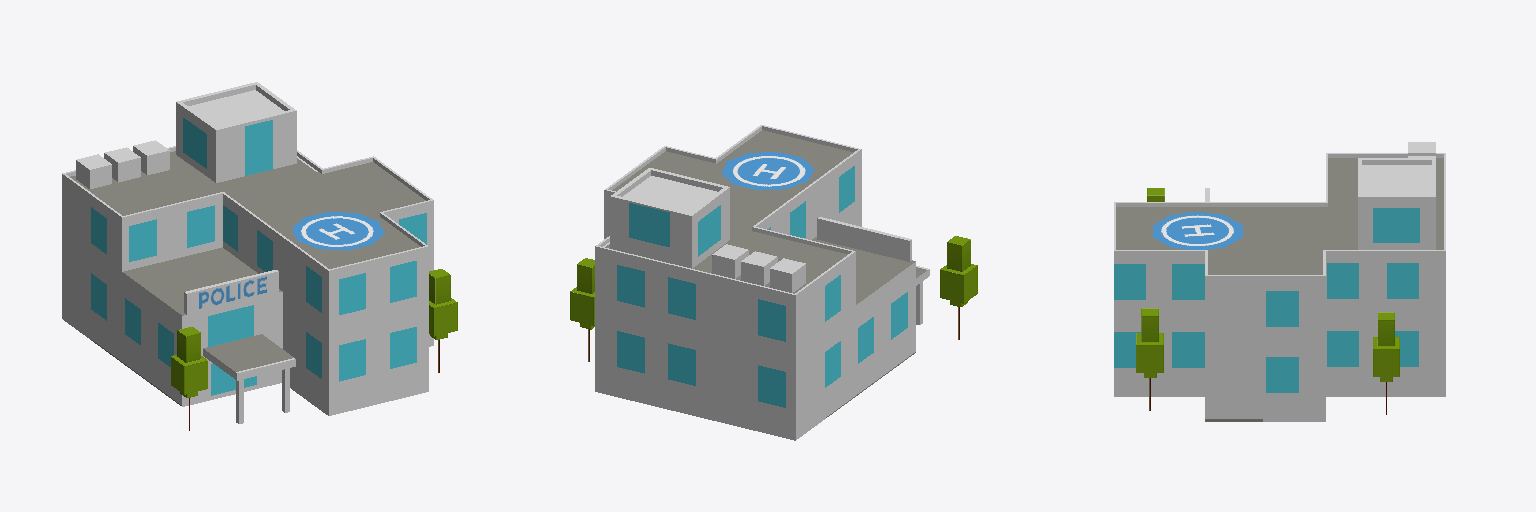
The picture shows the model from 3 angles: view 1: azimuth 30°, elevation 25°; view 2: azimuth 150°, elevation 25°; view 3: azimuth 270°, elevation 25°; orthographic projection.
Visible parts, largest first — view 1: service_police_Mesh.9301, Tree_2_3_61.427_Mesh.9303, Tree_2_3_61.426_Mesh.9302; view 2: service_police_Mesh.9301, Tree_2_3_61.427_Mesh.9303, Tree_2_3_61.428_Mesh.9304; view 3: service_police_Mesh.9301, Tree_2_3_61.426_Mesh.9302, Tree_2_3_61.428_Mesh.9304.
Boxes of the visible parts, <box> form: service_police_Mesh.9301: <box>62,82,433,423</box>; Tree_2_3_61.427_Mesh.9303: <box>171,327,207,430</box>; Tree_2_3_61.426_Mesh.9302: <box>429,269,457,372</box>; service_police_Mesh.9301: <box>595,125,929,440</box>; Tree_2_3_61.427_Mesh.9303: <box>940,236,977,339</box>; Tree_2_3_61.428_Mesh.9304: <box>570,258,594,361</box>; service_police_Mesh.9301: <box>1114,142,1445,421</box>; Tree_2_3_61.426_Mesh.9302: <box>1136,308,1163,410</box>; Tree_2_3_61.428_Mesh.9304: <box>1373,312,1399,414</box>.
Size of the model in its own units: 1.86 by 1.23 by 1.91.
Materials: 2 (2 with a texture image).